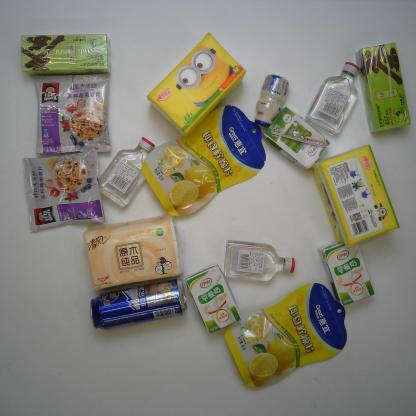Alcohol: (61, 270, 198, 352), (214, 234, 304, 290), (100, 132, 160, 213), (308, 57, 366, 140)
Dried Fruit: (220, 274, 369, 392), (139, 105, 273, 223)
Instant Drink: (14, 135, 104, 246), (31, 65, 116, 166), (13, 18, 120, 80), (353, 34, 412, 141)
Milk: (309, 234, 381, 311), (182, 259, 247, 338), (264, 103, 334, 174), (248, 64, 293, 131)
Tissue: (142, 22, 243, 134), (80, 204, 197, 296), (312, 142, 404, 254)
